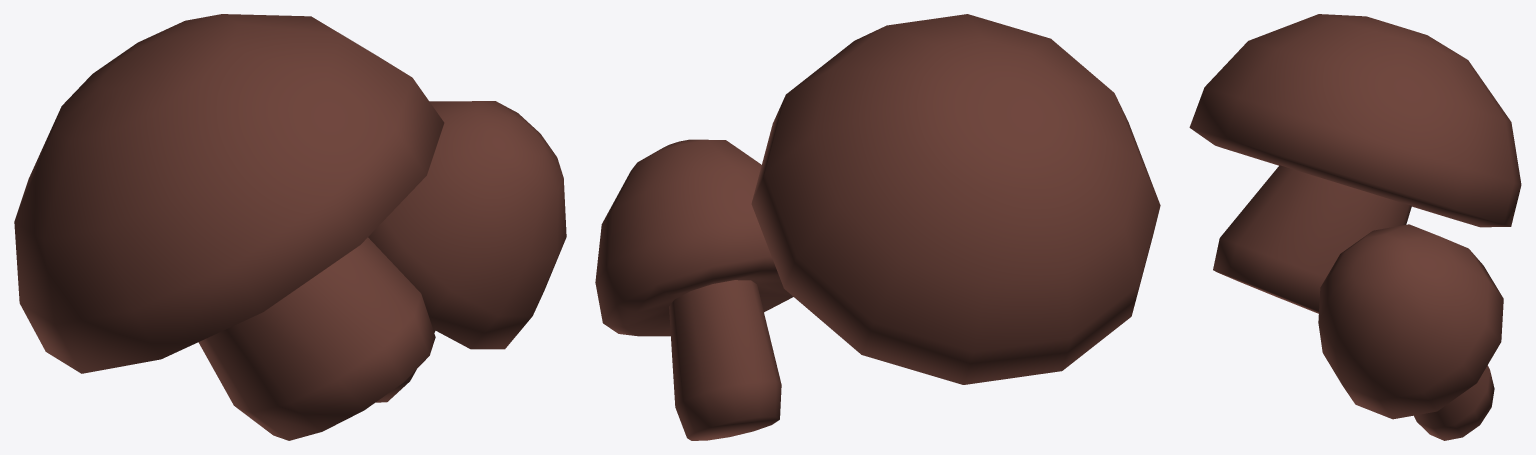
The model's file is g_mushroom.fbx.
The picture shows the model from 3 angles, left to right: view 1: azimuth 30°, elevation 25°; view 2: azimuth 150°, elevation 25°; view 3: azimuth 270°, elevation 25°; orthographic projection. The views are drawn at different scales.
Parts seen in each view (by area): view 1: mushroom_gather; view 2: mushroom_gather; view 3: mushroom_gather.
Boxes of the visible parts, bbox=[...] form: mushroom_gather: bbox=[14, 14, 566, 440]; mushroom_gather: bbox=[595, 14, 1160, 440]; mushroom_gather: bbox=[1189, 14, 1521, 440].
Size of the model in its own units: 54.72 by 39 by 43.75.
